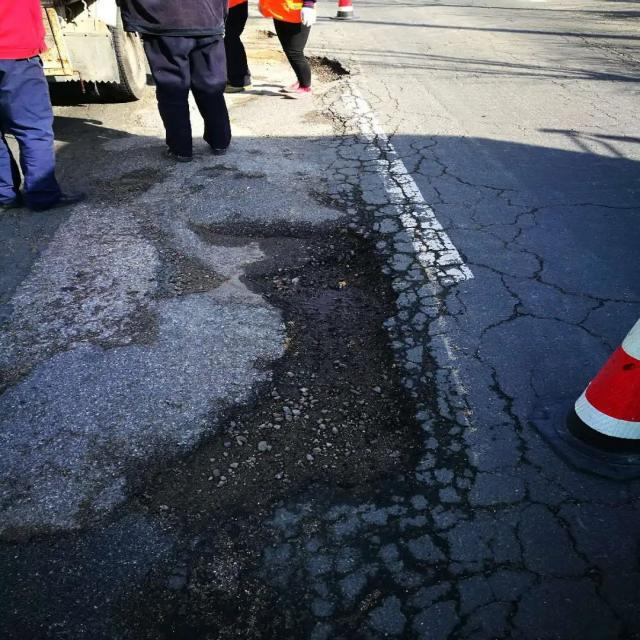Pothole: (144, 217, 459, 520), (305, 54, 352, 81)
